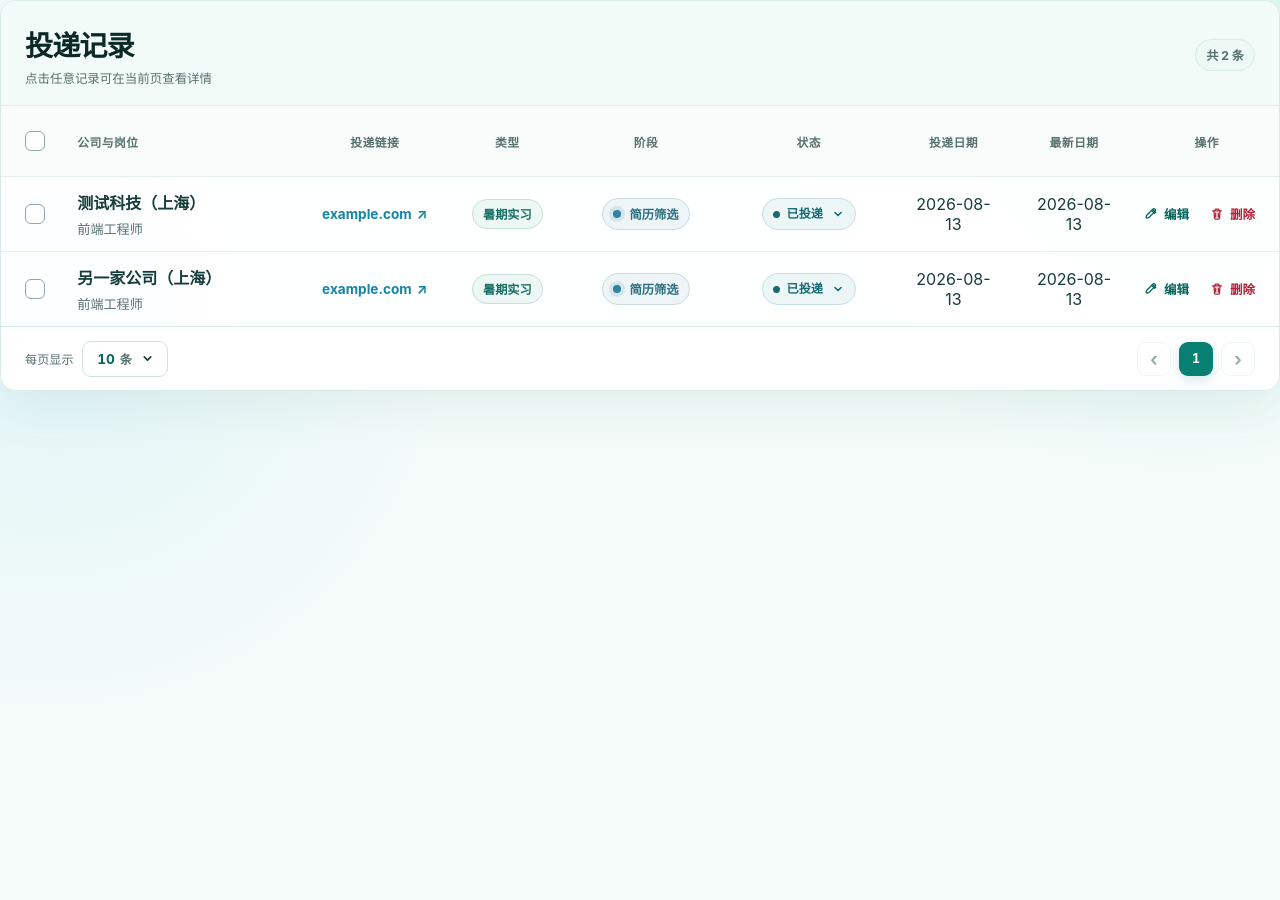
Test: 投递记录列表 › 支持选择当前页记录、导出所选并确认批量删除
Click the checkbox named "选择 测试科技（上海） 前端工程师" at (35, 214), box top-left (25, 204), bottom-right (45, 224)
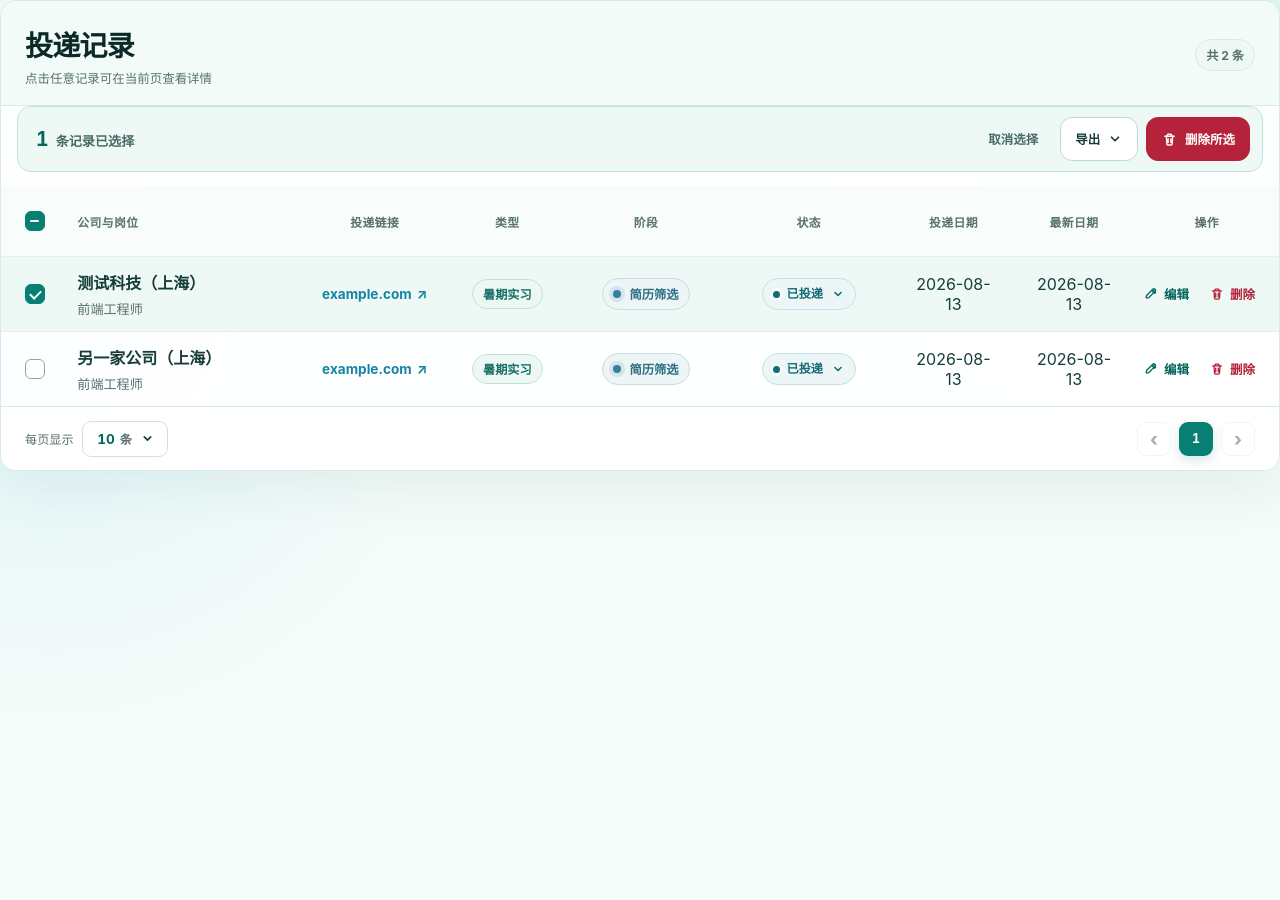
Now the text "1" next to "条记录已选择" is shown, box top-left (36, 127), bottom-right (49, 151)
Click the button "删除所选" at (1198, 139), box top-left (1146, 117), bottom-right (1250, 161)
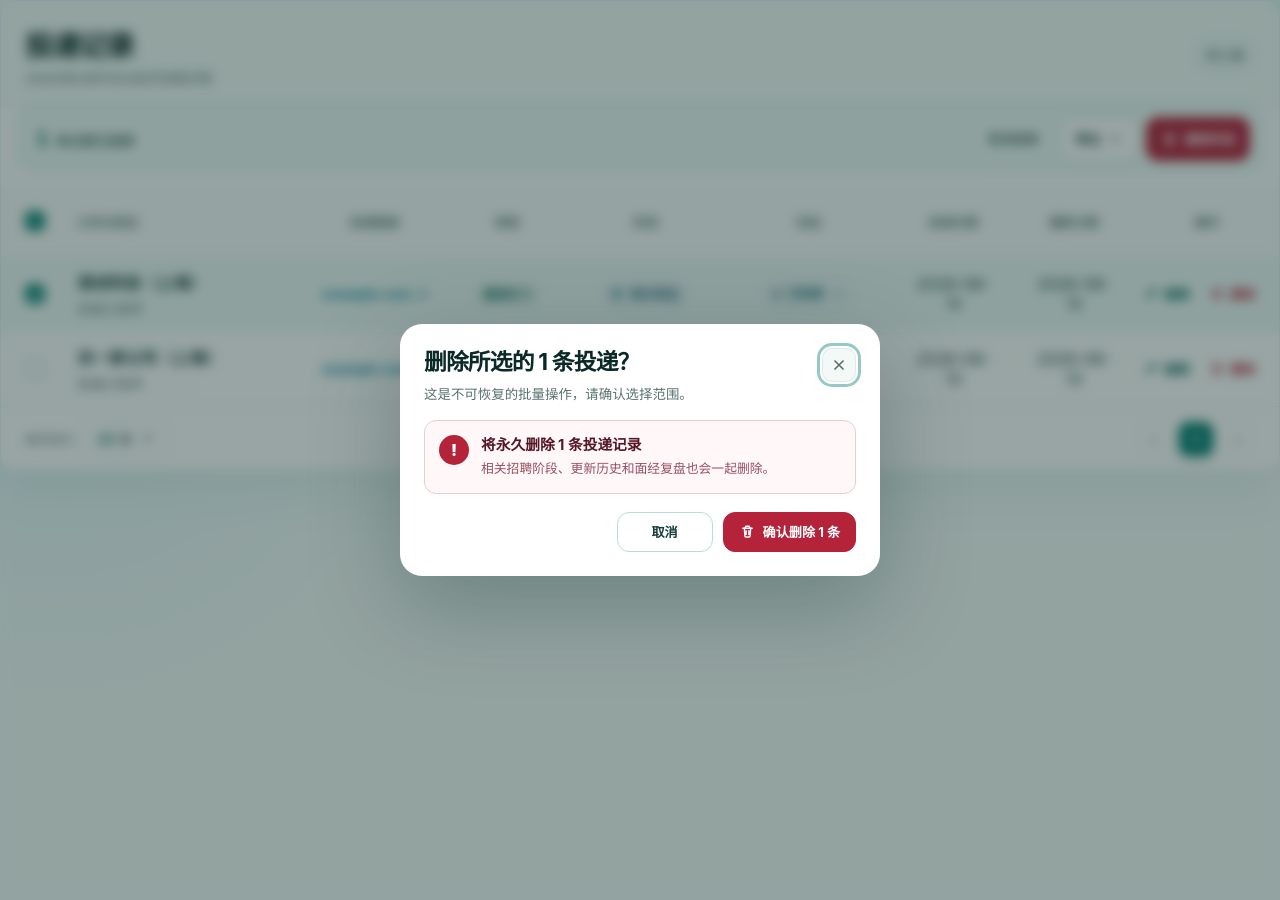
Now the heading "删除所选的 1 条投递？" is shown, box top-left (424, 348), bottom-right (640, 375)
Click the button "确认删除 1 条" at (789, 532), box top-left (723, 512), bottom-right (856, 552)
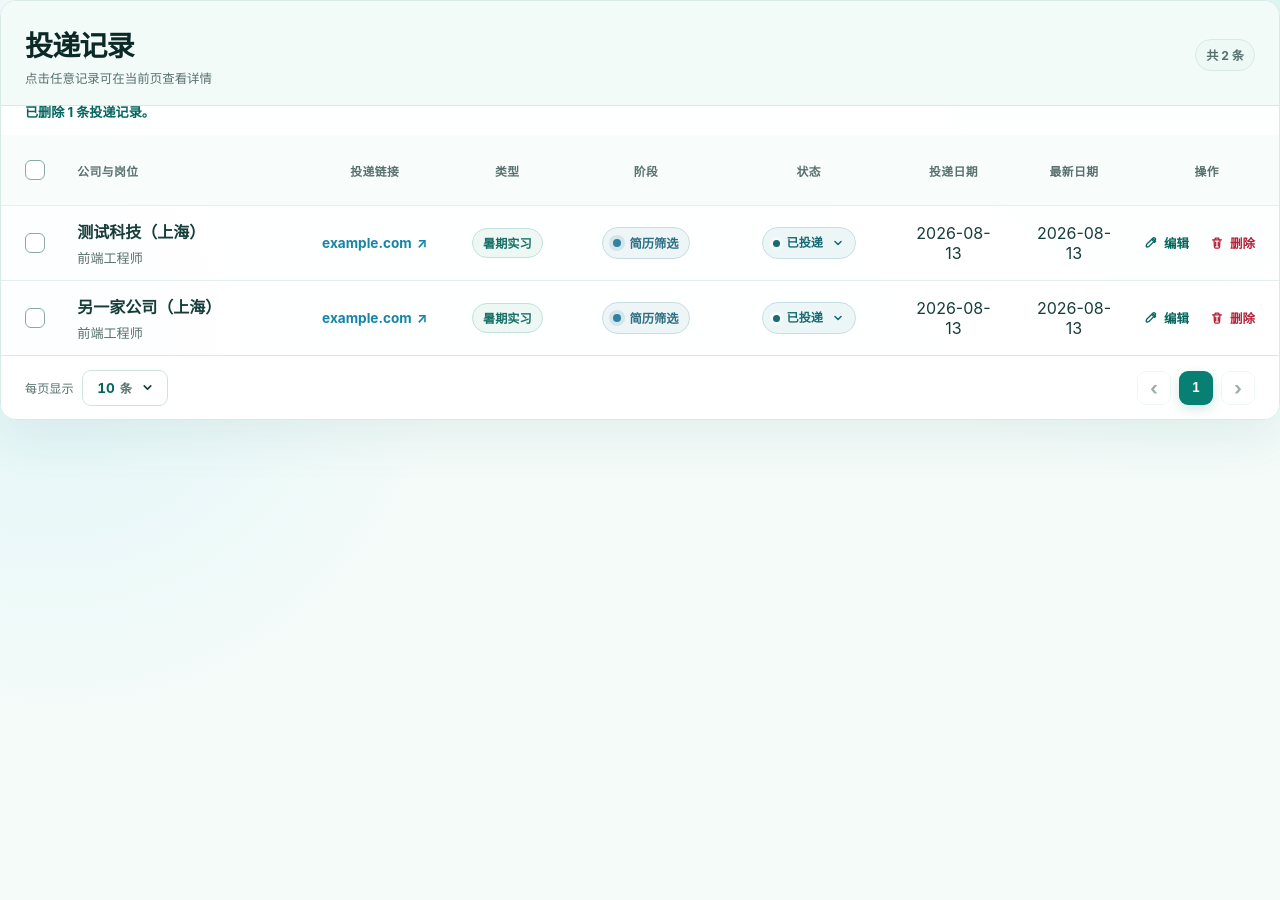
Now the text "已删除 1 条投递记录。" is shown, box top-left (25, 104), bottom-right (155, 120)
